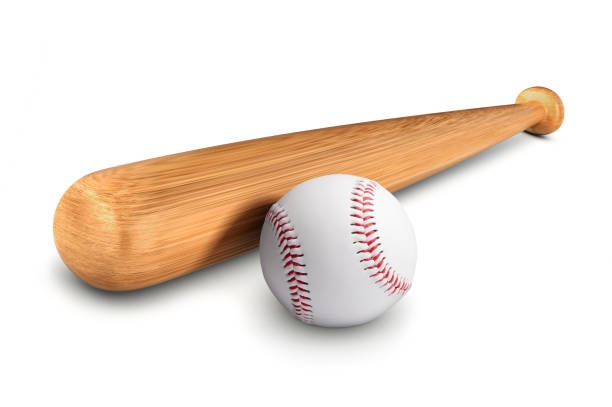bita: (48, 88, 567, 289)
